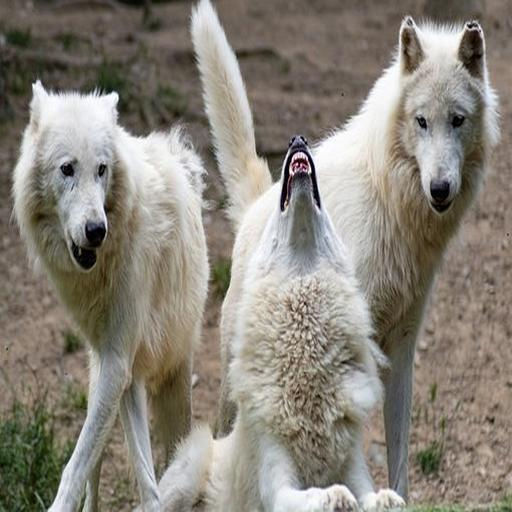Wolf: (188, 0, 509, 512), (149, 134, 415, 512), (1, 77, 220, 512)
